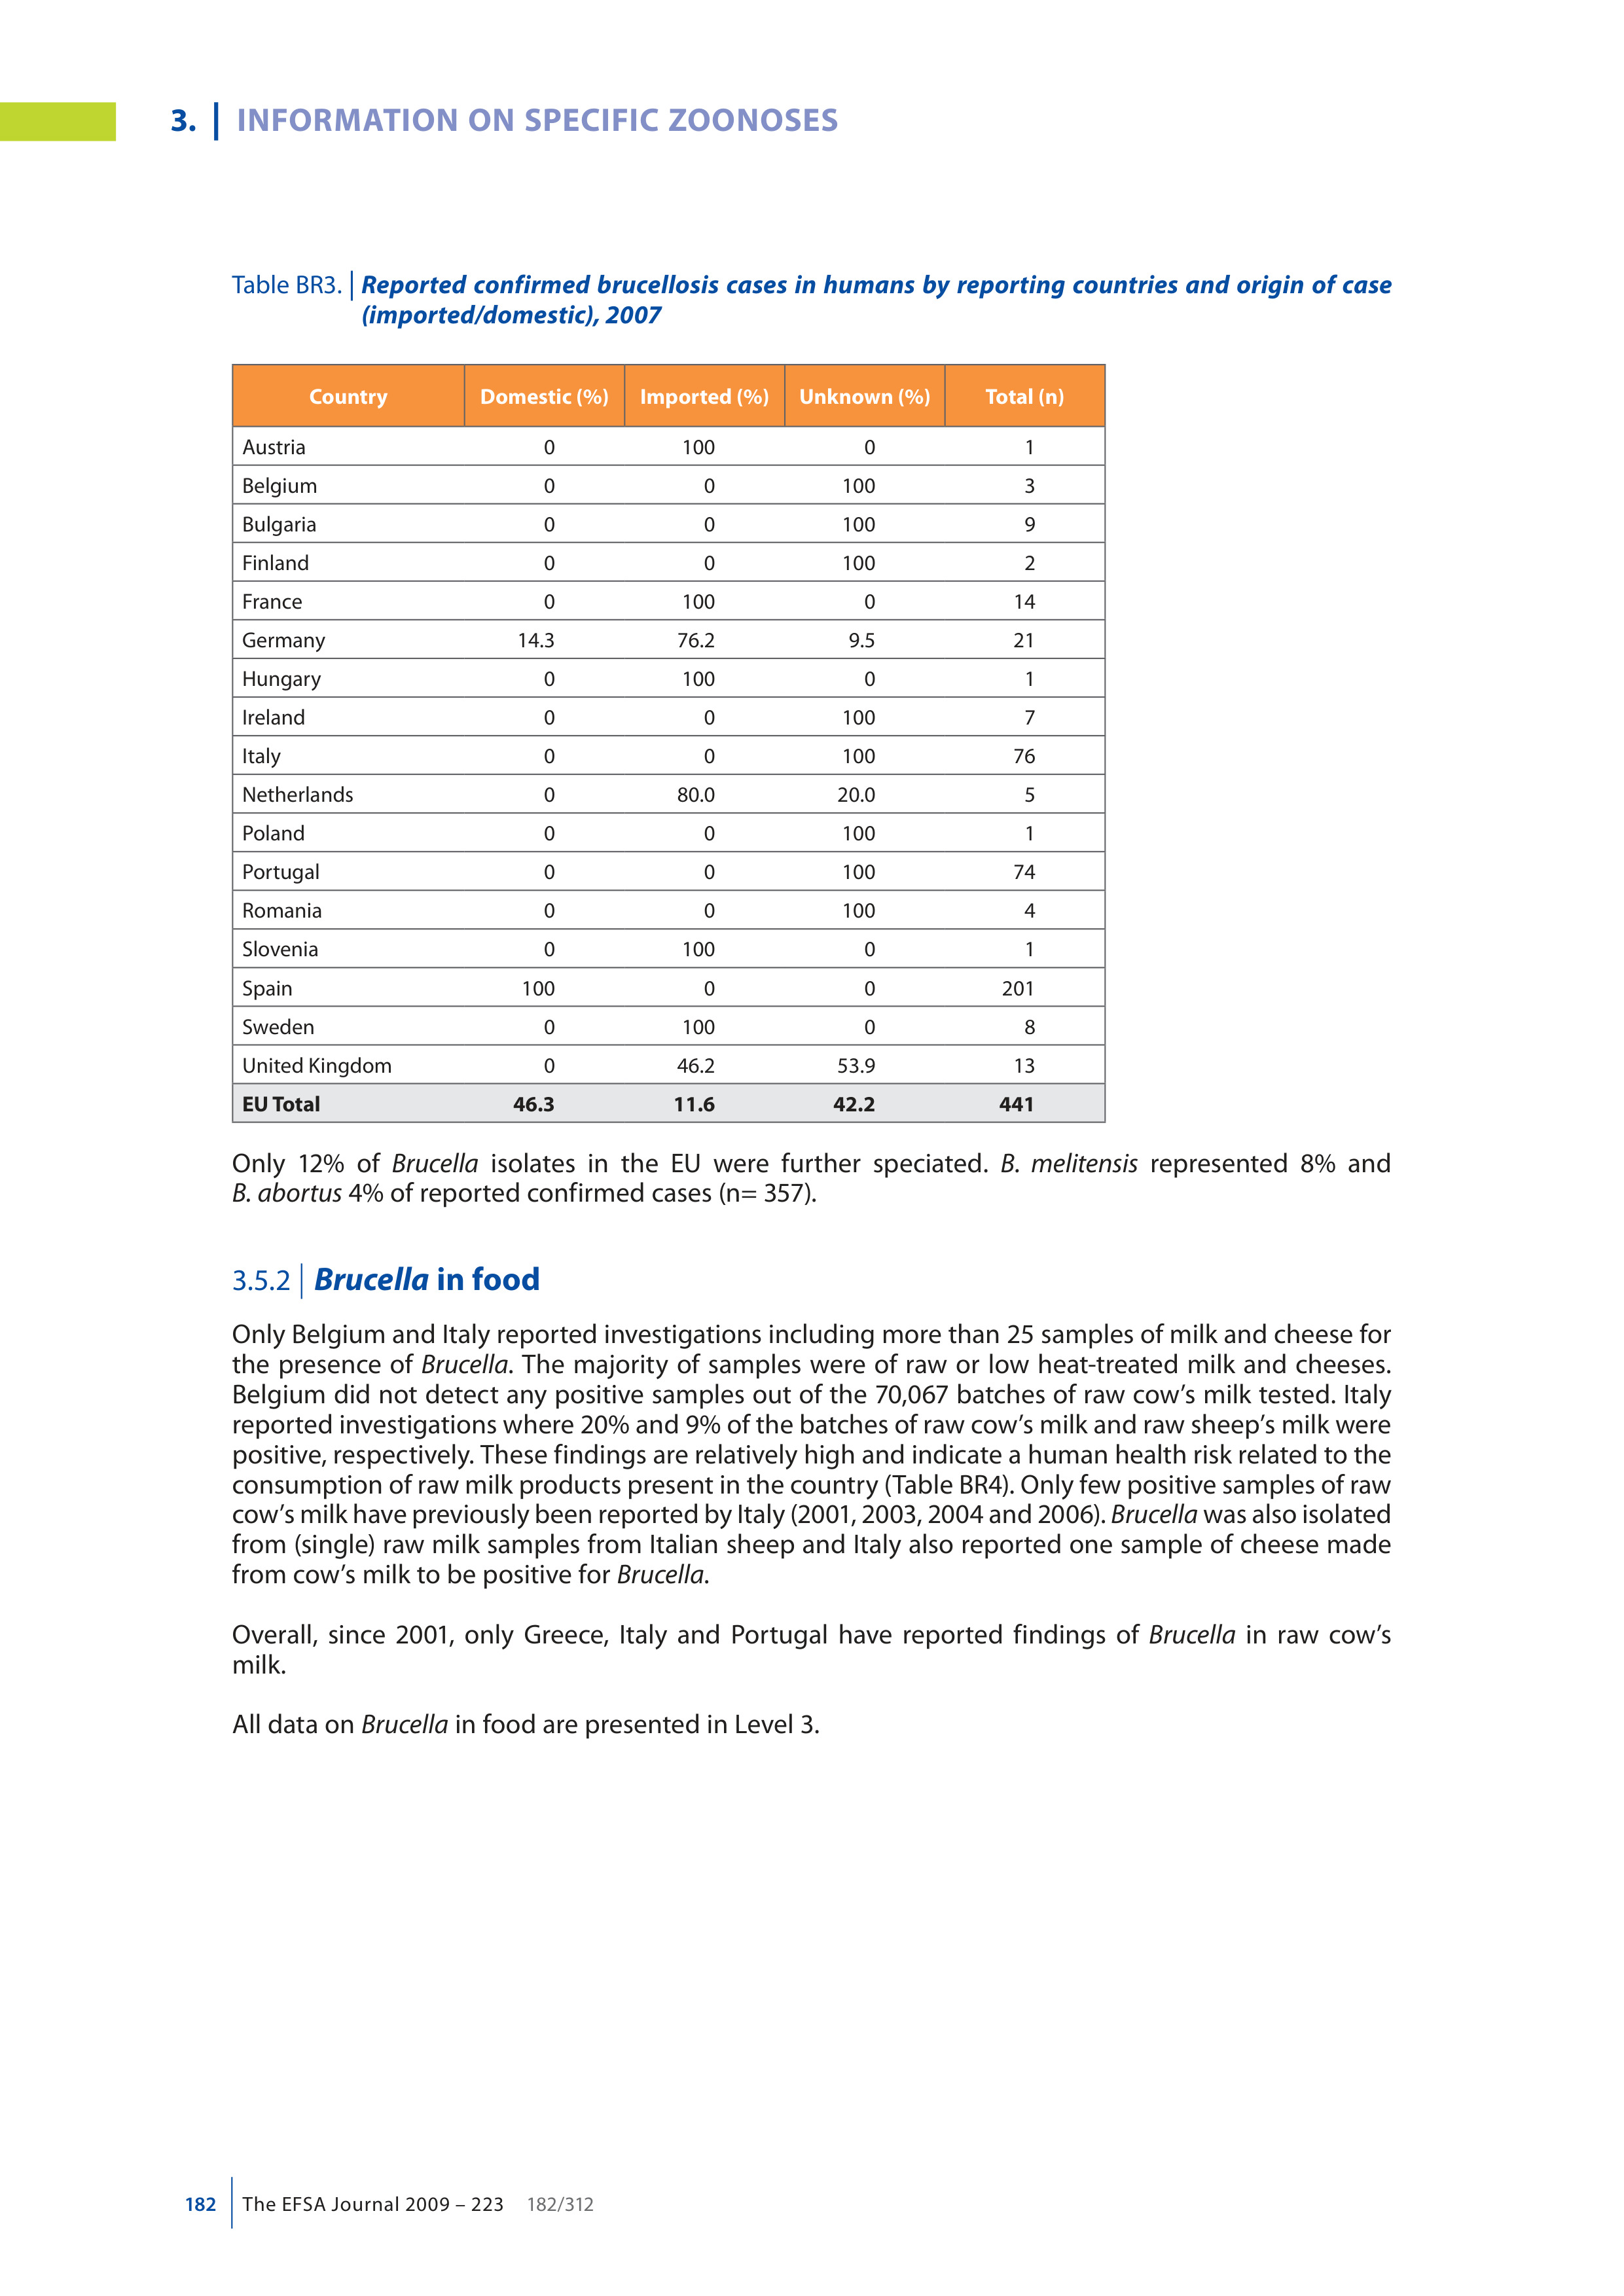table: (243, 381, 1065, 1117)
